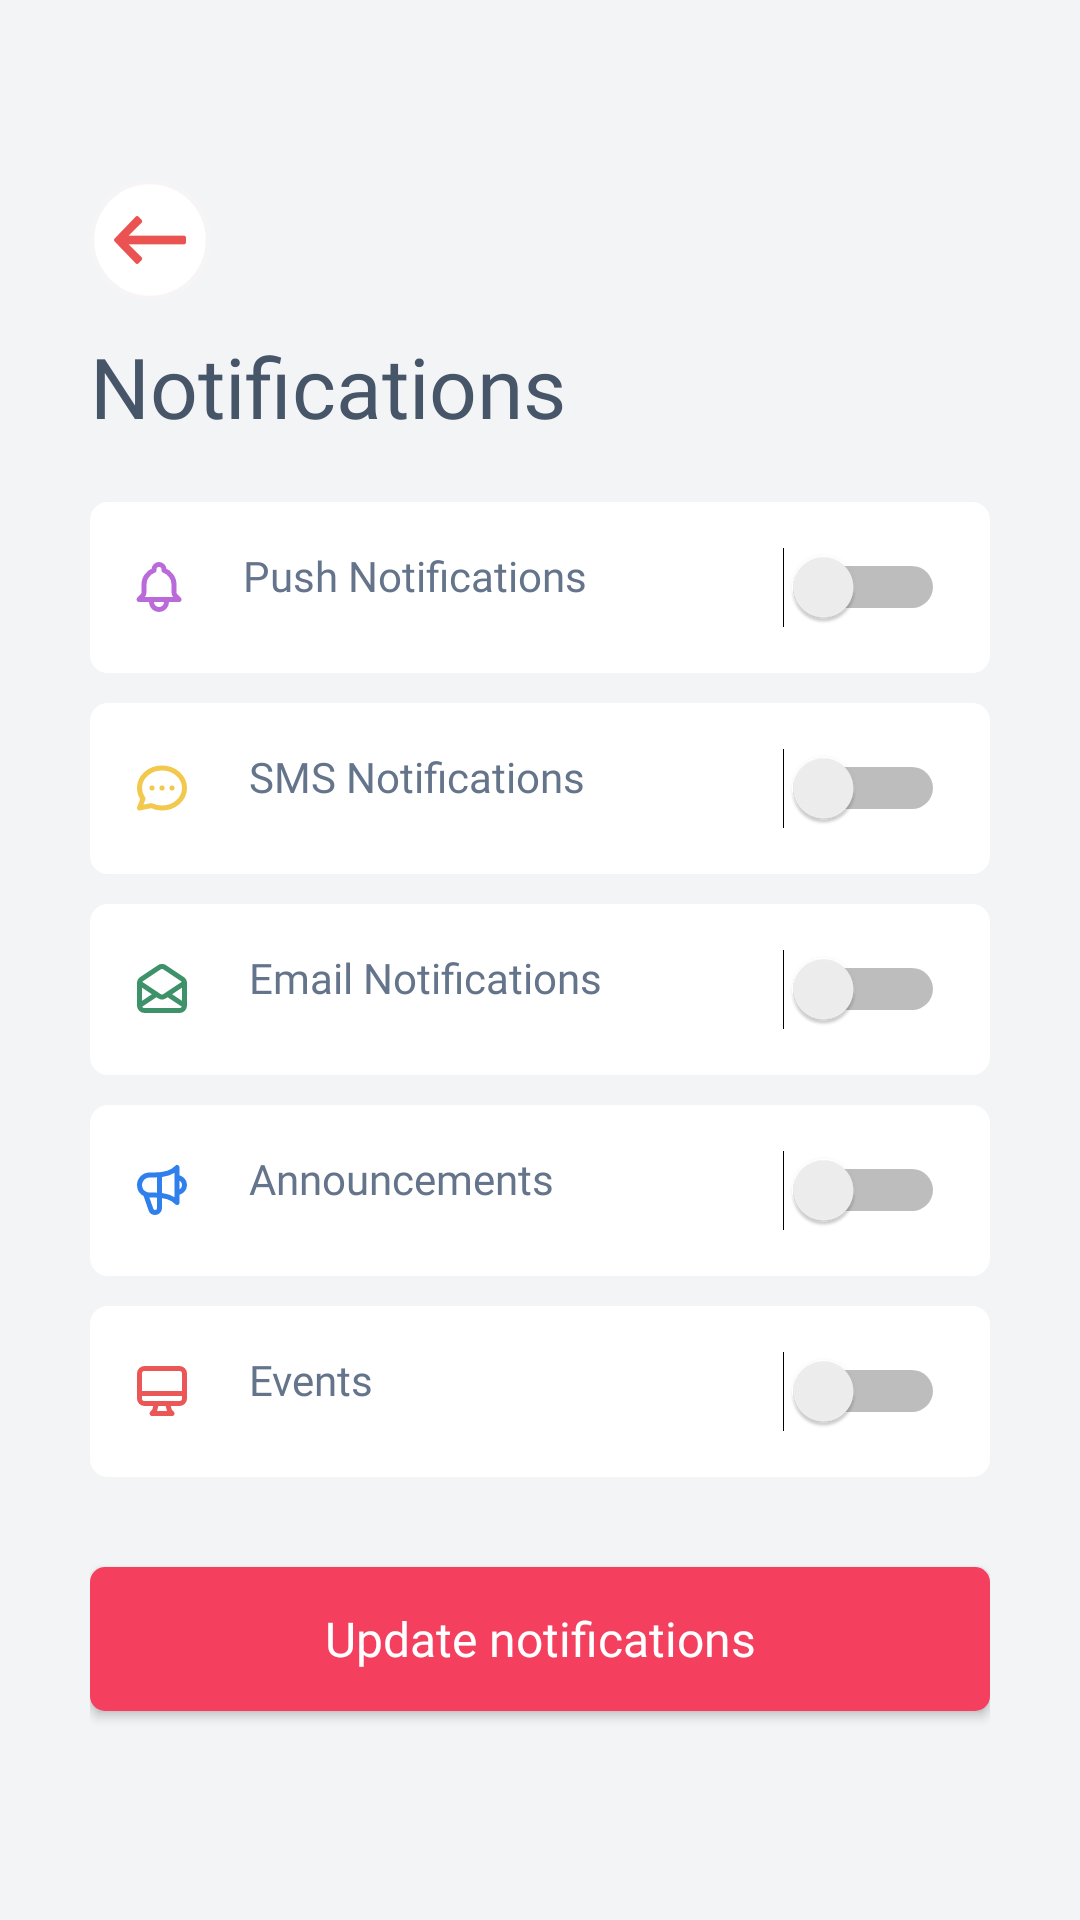

Icon bounding boxes for this 1080×1920 phone screenshot, format (x1, y1, x2, y2):
announcments: (137, 1165, 187, 1215)
back: (94, 184, 206, 296)
